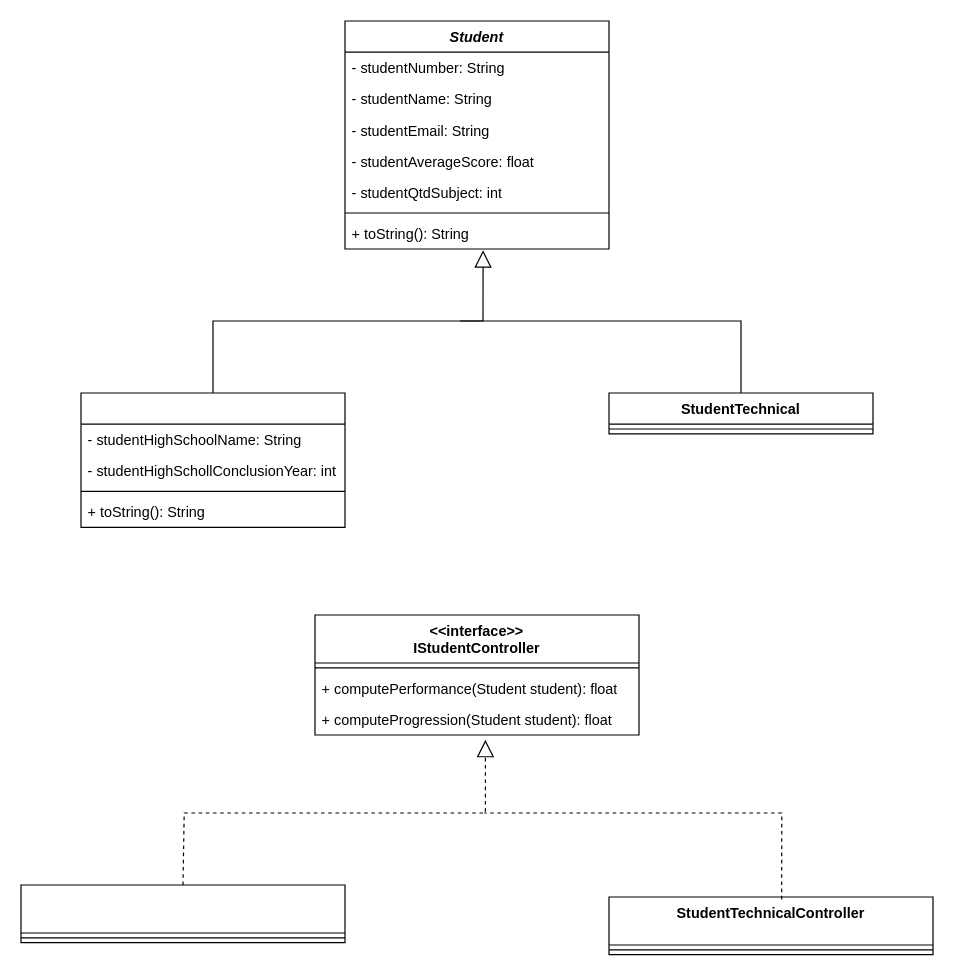
Some shapes in this 954 by 976 pixel diagram are drawn without their labels. The box of each missing label's shape, as (x1, y1, x2, y2) in pixels:
StudentCollege: (80, 392, 345, 527)
StudentCollegeController: (20, 884, 345, 943)
